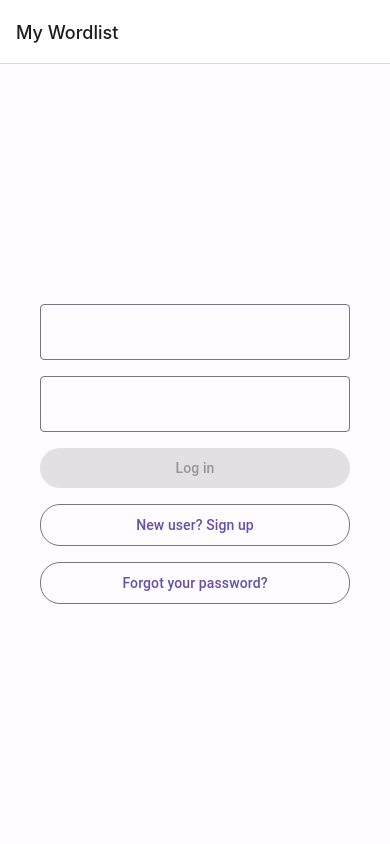
Test: LogInScreen › when sign-in request fails › if user then changes email to an invalid one and attempts to re-submit › email validation message appears
Type "test@test.co" into the field labelled "email" at {"x": 195, "y": 332}, box [40,304,350,360]
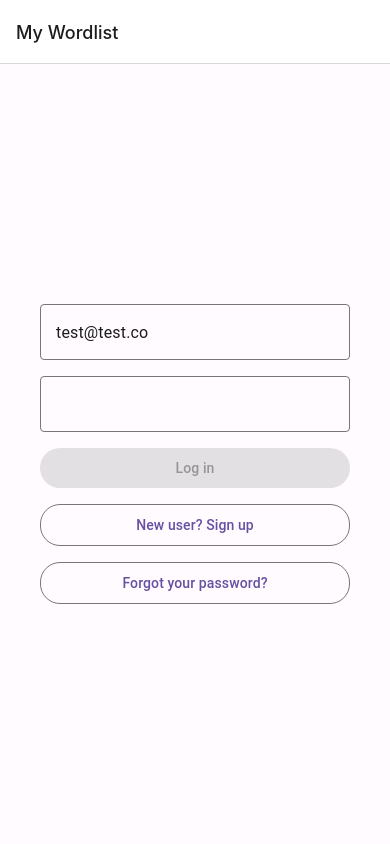
Type "password" into the password field labelled "password" at {"x": 167, "y": 404}, box [40,376,294,432]
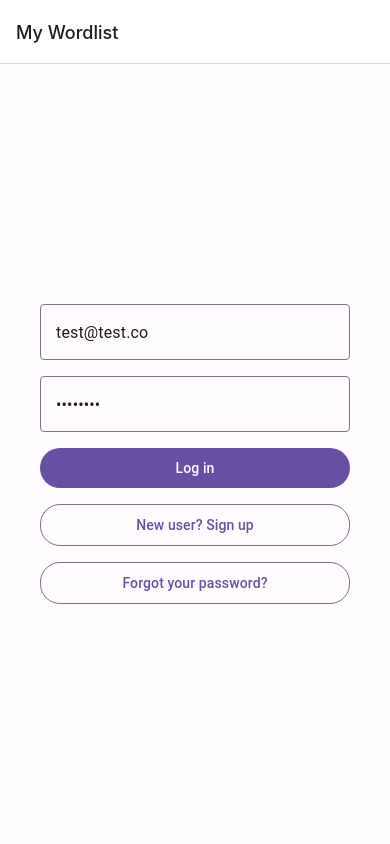
Click the button "Log in" at {"x": 195, "y": 468}, box [40,448,350,488]
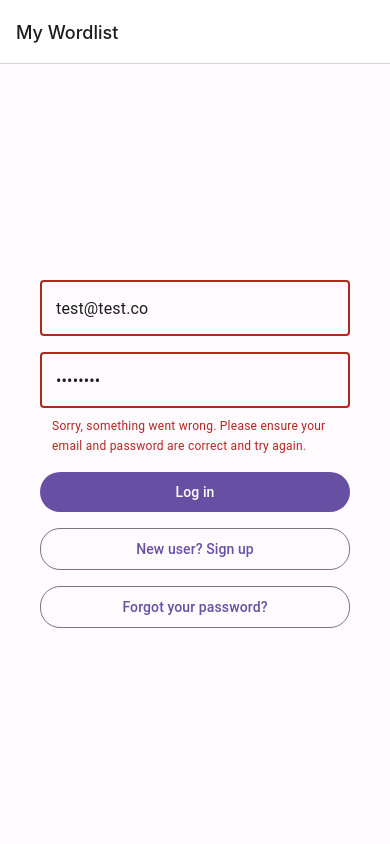
Replace the text in the field named "email" with "invalid.email" at {"x": 195, "y": 308}, box [40,280,350,336]
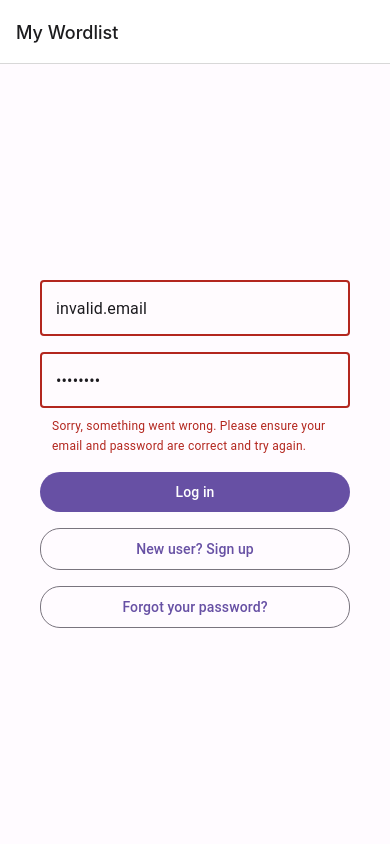
Click the button "Log in" at {"x": 195, "y": 492}, box [40,472,350,512]
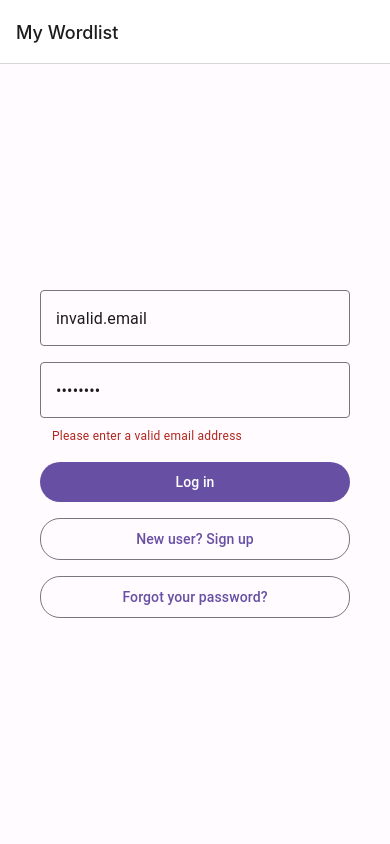
Expected: the text "Please enter a valid email address" is shown, [52,429,242,443]
